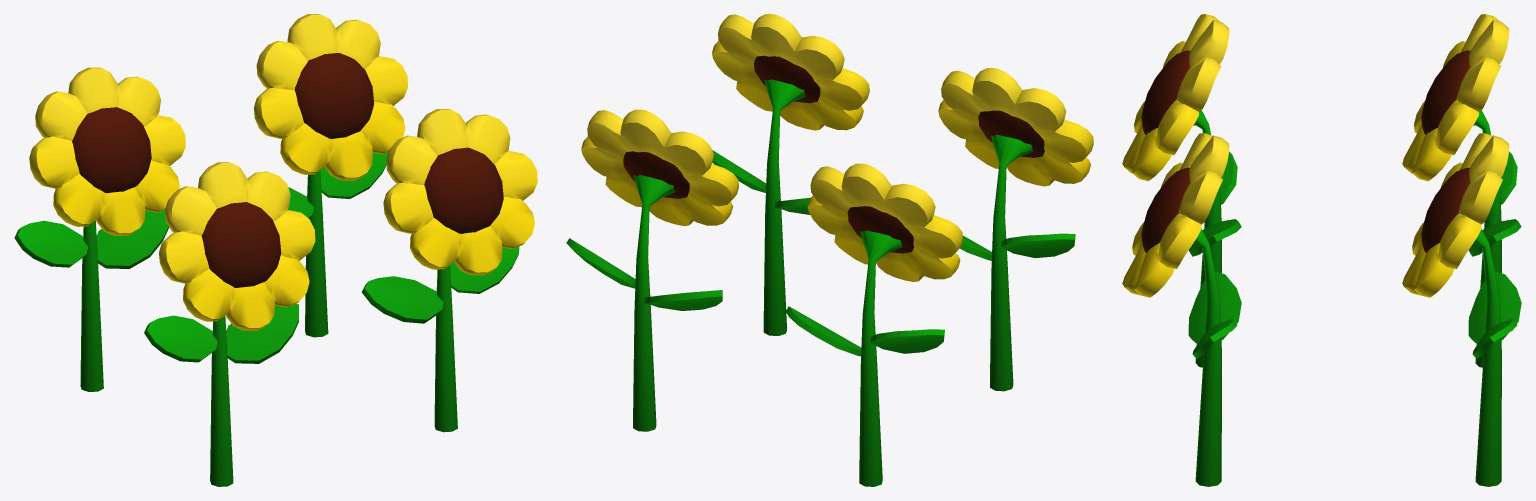
Rendered from Farm_Crop_Sunflower_Step_03.fbx.
3 views of the same model, side by side, from view 1: azimuth 30°, elevation 25°; view 2: azimuth 150°, elevation 25°; view 3: azimuth 270°, elevation 25° (orthographic). The views are drawn at different scales.
Parts seen in each view (by area): view 1: Farm_Crop_Sunflower_Step_03; view 2: Farm_Crop_Sunflower_Step_03; view 3: Farm_Crop_Sunflower_Step_03.
Boxes of the visible parts, <box> form: Farm_Crop_Sunflower_Step_03: <box>14,14,537,486</box>; Farm_Crop_Sunflower_Step_03: <box>566,14,1093,486</box>; Farm_Crop_Sunflower_Step_03: <box>1122,14,1521,486</box>.
Size of the model in its own units: 167 by 135 by 143.
